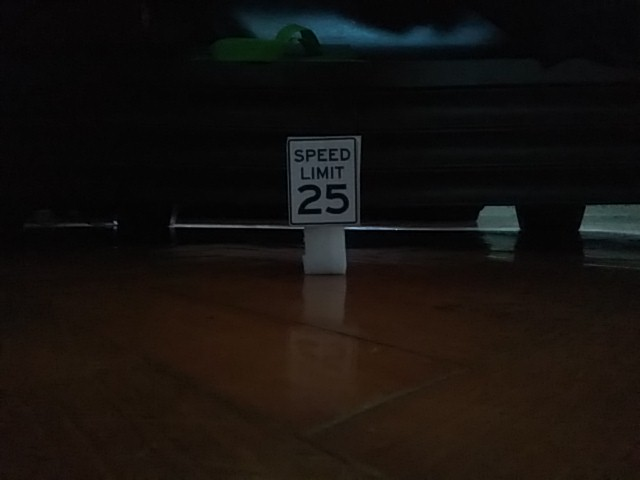Speed Limit 25: (286, 135, 362, 228)
